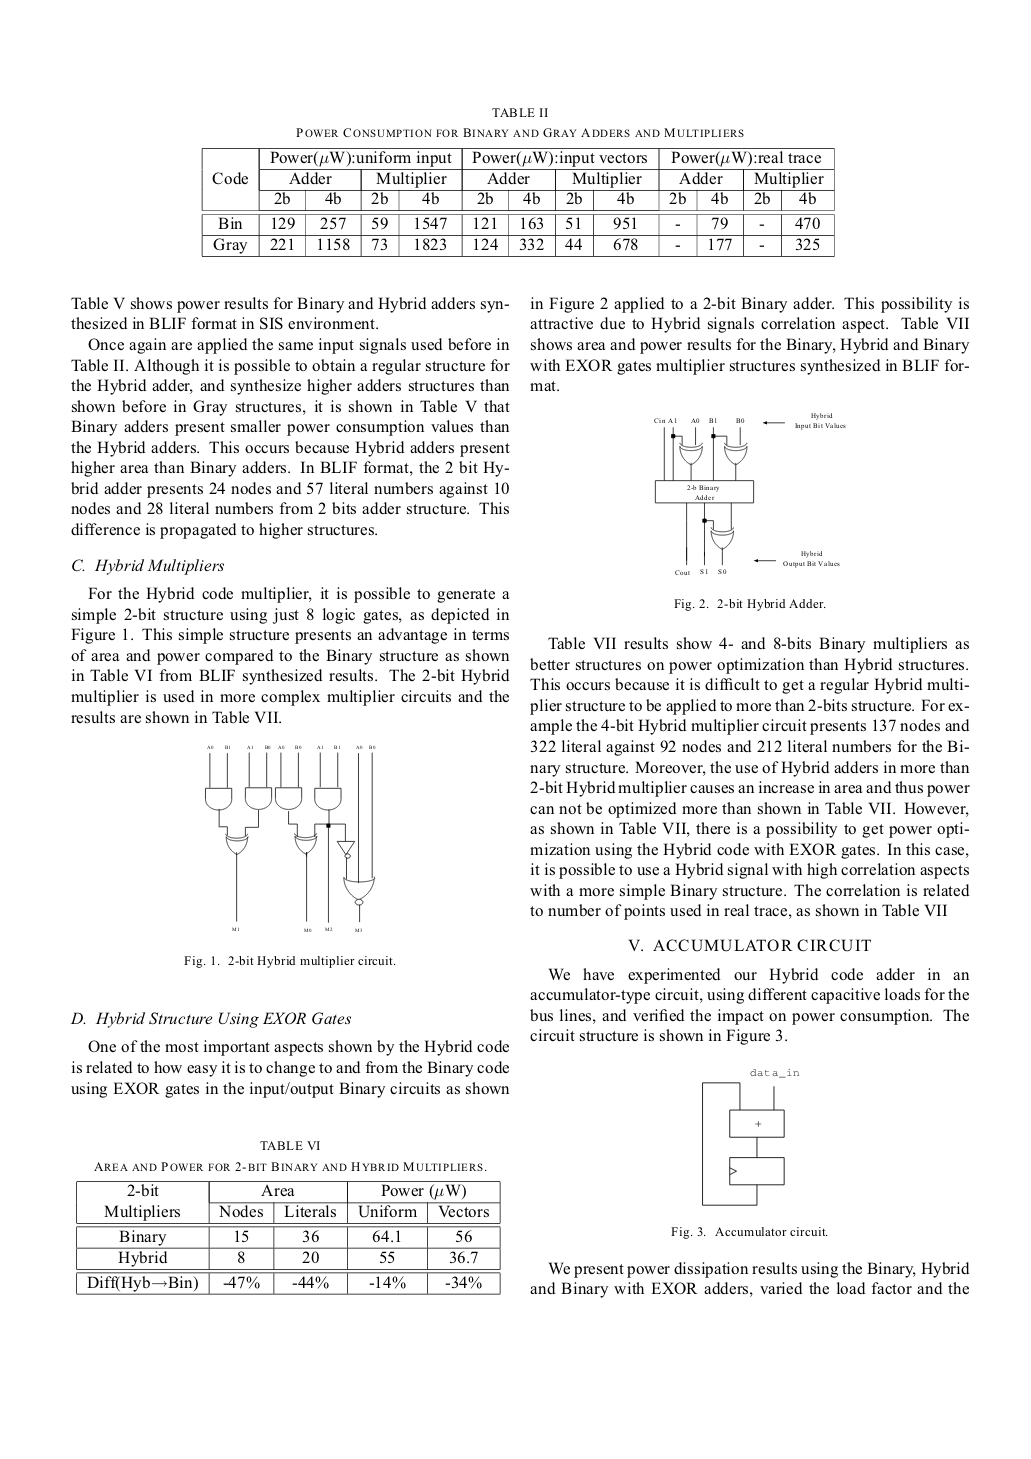Table: (201, 147, 834, 257), (76, 1180, 500, 1295)
figure: (205, 745, 375, 931), (654, 412, 845, 574), (702, 1067, 799, 1205)
